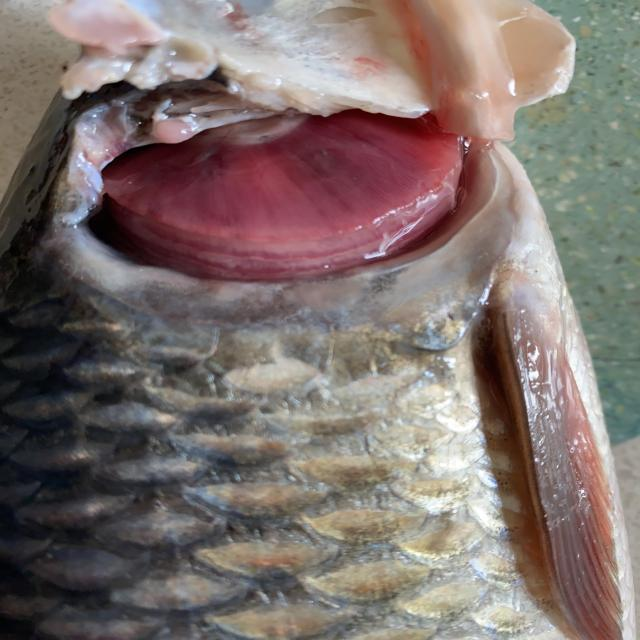Fresh: (49, 81, 556, 276)
